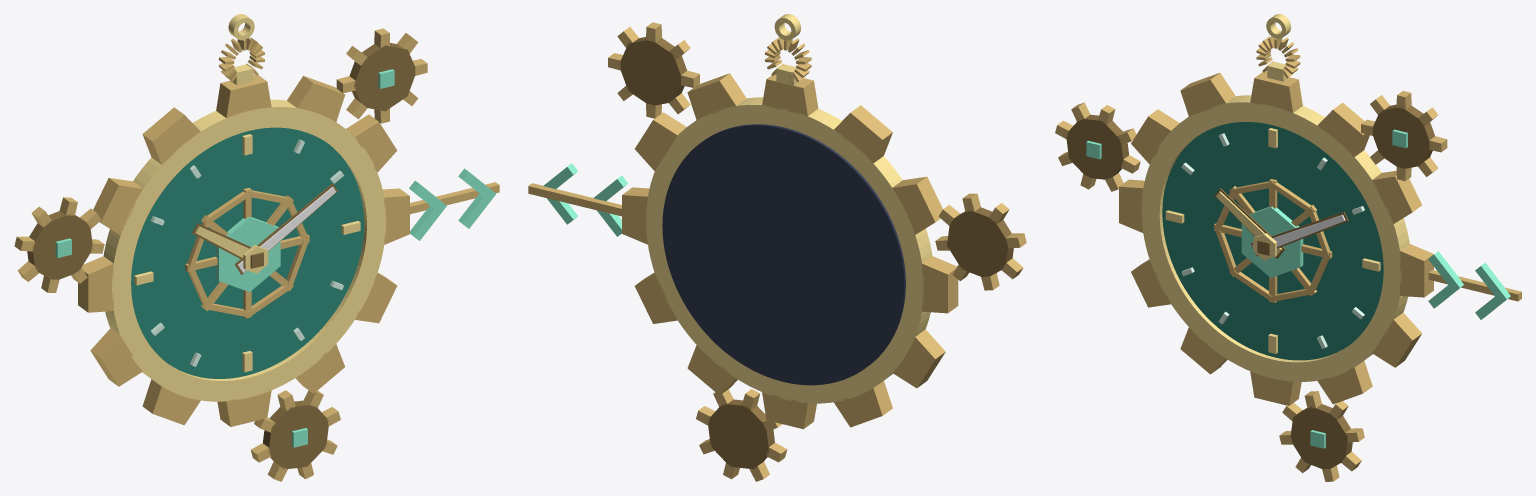
The model's file is steampunk_clock_item.glb.
3 views of the same model, side by side, from view 1: azimuth 30°, elevation 25°; view 2: azimuth 150°, elevation 25°; view 3: azimuth 330°, elevation 25° (orthographic). The views are drawn at different scales.
Parts seen in each view (by area): view 1: generated(Clone); view 2: generated(Clone); view 3: generated(Clone).
Part boxes in pixels (left/top/right/bottom): generated(Clone): left=14, top=14, right=499, bottom=481; generated(Clone): left=528, top=14, right=1026, bottom=481; generated(Clone): left=1055, top=14, right=1521, bottom=481.
Bounding box in the file's own units: 8 × 7.46 × 0.5947.
